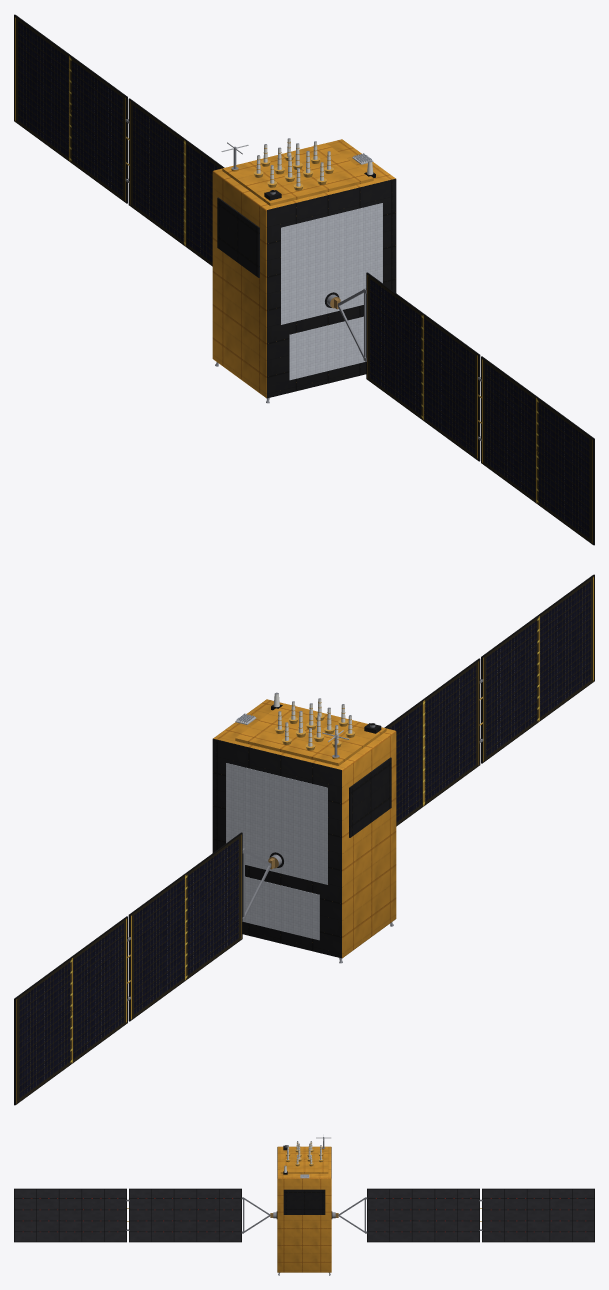
The model's file is gps-iii.glb.
3 renders of one model, top to bottom at view 1: azimuth 30°, elevation 25°; view 2: azimuth 150°, elevation 25°; view 3: azimuth 270°, elevation 25°, orthographic. The views are drawn at different scales.
Parts seen in each view (by area): view 1: wing-Y, bus, wing+Y, radiators_osr, lband_antenna_array; view 2: wing+Y, bus, wing-Y, radiators_osr, lband_antenna_array; view 3: wing+Y, wing-Y, bus, lband_antenna_array.
Part boxes in pixels (left/top/right/bottom): wing-Y: left=334, top=272, right=594, bottom=545; bus: left=212, top=139, right=396, bottom=398; wing+Y: left=14, top=14, right=224, bottom=266; radiators_osr: left=281, top=203, right=382, bottom=380; lband_antenna_array: left=253, top=138, right=333, bottom=190; wing+Y: left=14, top=832, right=274, bottom=1105; bus: left=212, top=699, right=396, bottom=958; wing-Y: left=384, top=574, right=594, bottom=826; radiators_osr: left=226, top=763, right=327, bottom=940; lband_antenna_array: left=275, top=698, right=355, bottom=750; wing+Y: left=335, top=1188, right=594, bottom=1242; wing-Y: left=14, top=1188, right=273, bottom=1242; bus: left=277, top=1146, right=331, bottom=1272; lband_antenna_array: left=285, top=1141, right=323, bottom=1166.
Size of the model in its own units: 2.51 by 4.11 by 18.92.
16 materials, 5 textured.
